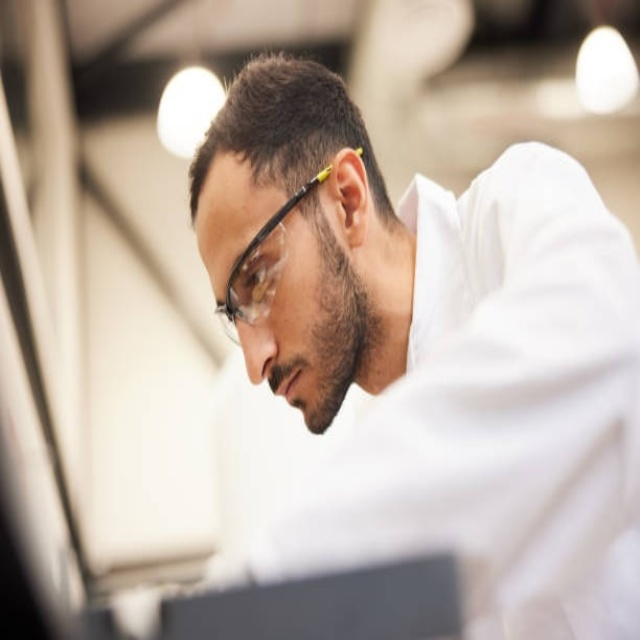Gafas: (213, 148, 361, 342)
Sin_mascara: (265, 358, 332, 433)
